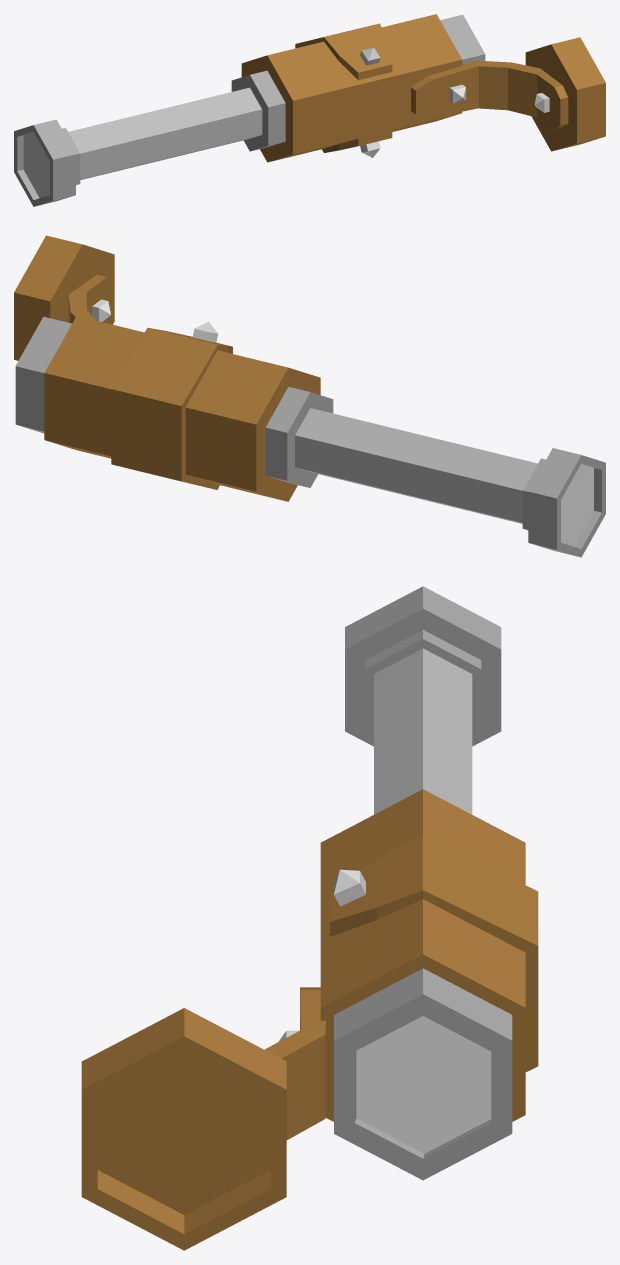
File: spyglass.fbx
The picture shows the model from 3 angles, top to bottom: view 1: azimuth 30°, elevation 25°; view 2: azimuth 150°, elevation 25°; view 3: azimuth 270°, elevation 25°; orthographic projection. The views are drawn at different scales.
Parts seen in each view (by area): view 1: spyglass; view 2: spyglass; view 3: spyglass.
Part boxes in pixels (x1=…): spyglass: x1=14, y1=14, x2=605, y2=206; spyglass: x1=14, y1=235, x2=605, y2=557; spyglass: x1=81, y1=586, x2=538, y2=1250.
Bounding box in the file's own units: 0.578 × 0.1316 × 0.2345.
